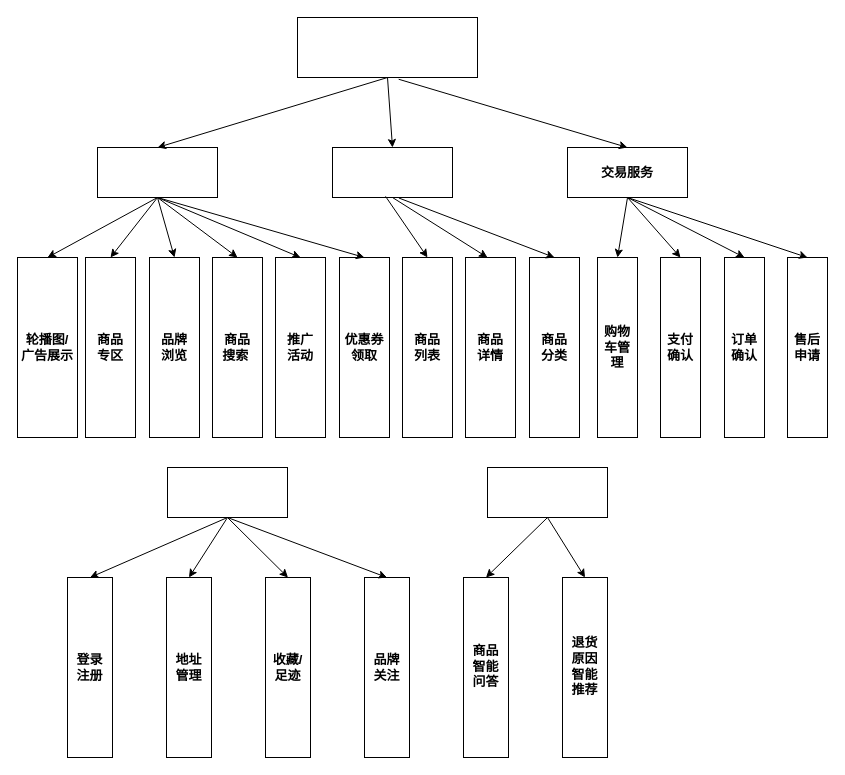
This 845x775 diagram has some shape labels left out. Here are the shapes that lost their labels. From the top down, the centre of each, then its label:
[387,47]: 前台商城子系统
[157,172]: 首页与导购
[392,172]: 商品服务
[227,492]: 会员服务
[547,492]: AI智能服务
